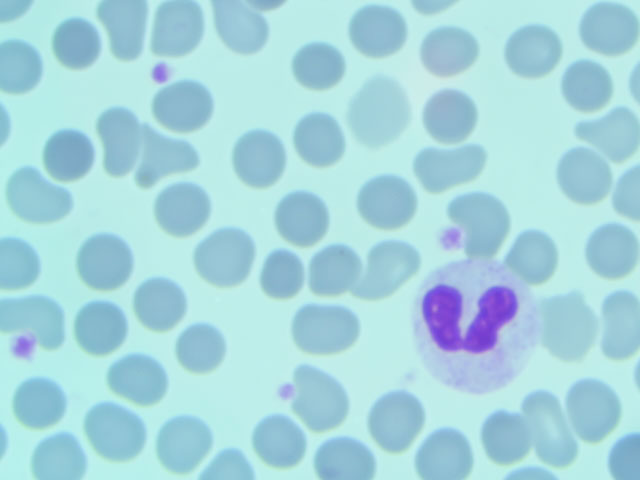Platelets: (10, 331, 39, 362), (143, 57, 175, 84), (435, 225, 463, 252), (277, 376, 296, 404)
RBC: (50, 16, 102, 68), (42, 129, 94, 181), (91, 111, 143, 163), (11, 170, 63, 222), (76, 236, 128, 288), (80, 300, 132, 352), (131, 279, 183, 331), (172, 320, 224, 372), (118, 351, 170, 403), (90, 405, 142, 457), (9, 373, 61, 425), (37, 428, 89, 480), (6, 291, 58, 343), (2, 239, 54, 291), (293, 41, 345, 93), (353, 5, 405, 57), (348, 81, 400, 133), (293, 111, 345, 163), (237, 134, 289, 186), (159, 80, 211, 132), (140, 128, 192, 180), (157, 182, 209, 234), (197, 230, 249, 282), (254, 250, 306, 302), (276, 191, 328, 243), (306, 243, 358, 295), (359, 243, 411, 295), (361, 175, 413, 227), (417, 143, 469, 195), (427, 90, 479, 142), (424, 25, 476, 77), (506, 23, 558, 75), (562, 63, 614, 115), (583, 2, 635, 54), (582, 102, 634, 154), (557, 152, 609, 204), (508, 230, 560, 282), (456, 192, 508, 244), (301, 304, 353, 356), (297, 371, 349, 423), (256, 415, 308, 467), (155, 416, 207, 468), (320, 428, 372, 480), (375, 392, 427, 444), (418, 428, 470, 480), (480, 411, 532, 463), (522, 400, 574, 452), (569, 379, 621, 431), (545, 297, 597, 349), (588, 295, 640, 347), (588, 224, 640, 276), (588, 428, 640, 480), (1, 41, 52, 93), (96, 1, 148, 52), (153, 1, 205, 52), (215, 1, 267, 52)
WBC: (406, 255, 528, 382)
